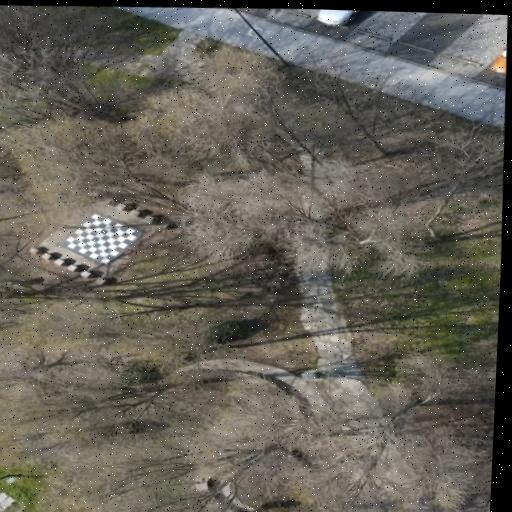car: (318, 10, 359, 26), (491, 49, 506, 77)
